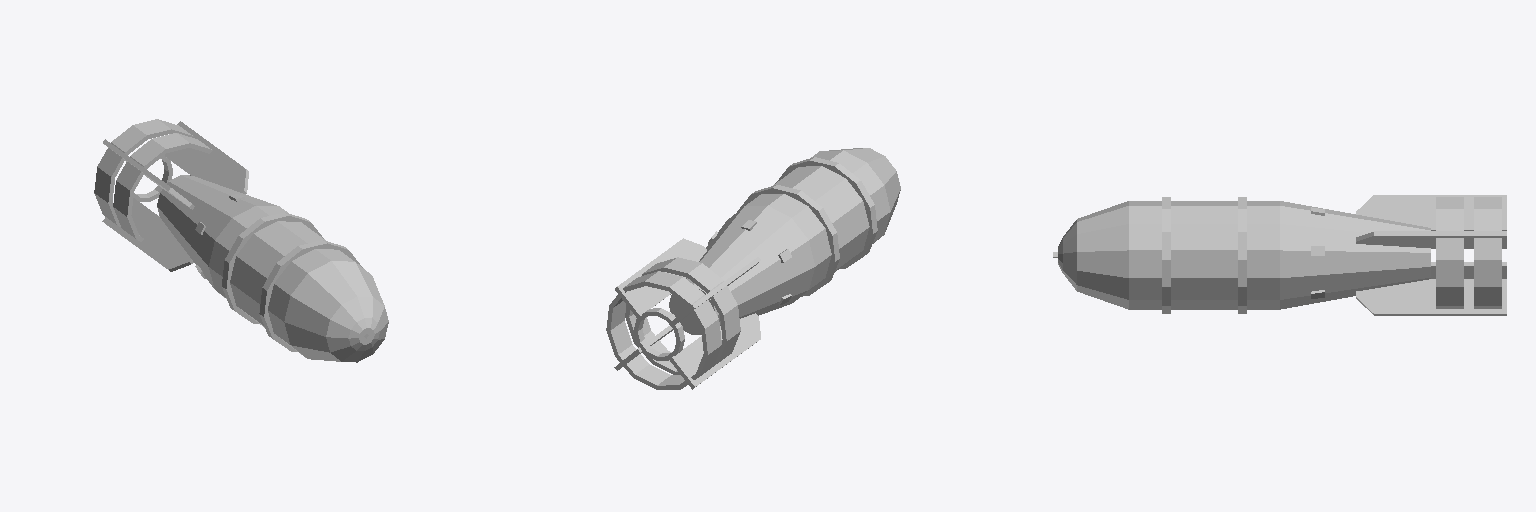
Rendered from dud_balefire.obj.
3 renders of one model, left to right at view 1: azimuth 30°, elevation 25°; view 2: azimuth 150°, elevation 25°; view 3: azimuth 270°, elevation 25°, orthographic.
Parts seen in each view (by area): view 1: Cylinder.002_Cylinder.003; view 2: Cylinder.002_Cylinder.003; view 3: Cylinder.002_Cylinder.003.
Boxes of the visible parts, box(x1,y1,x2,y2) form: Cylinder.002_Cylinder.003: box(94, 119, 388, 362); Cylinder.002_Cylinder.003: box(606, 148, 900, 389); Cylinder.002_Cylinder.003: box(1053, 195, 1506, 315).
Bounding box in the file's own units: 1.56 × 1.54 × 6.